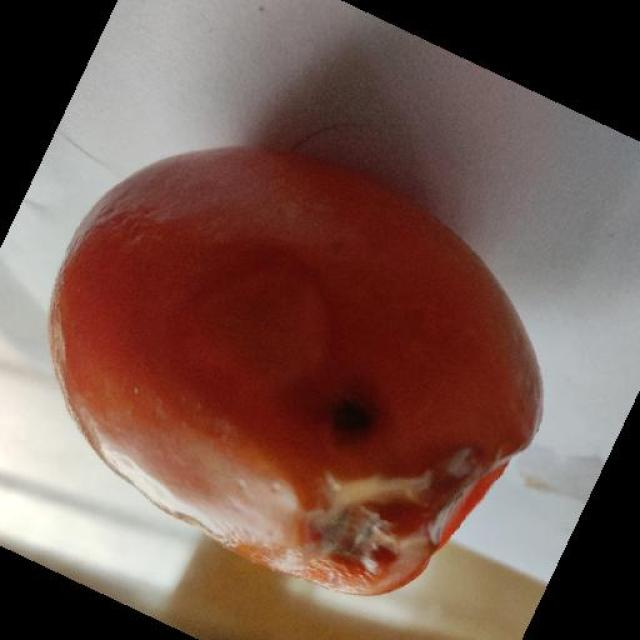Stale_tomato: (66, 162, 490, 588)
